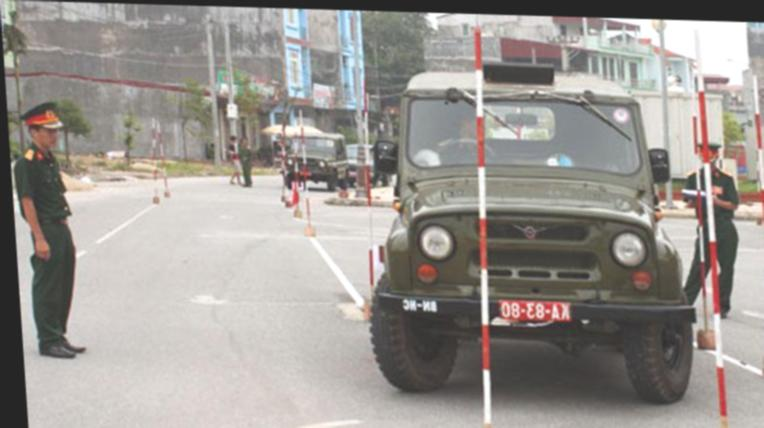License_Plate: (497, 295, 576, 327)
